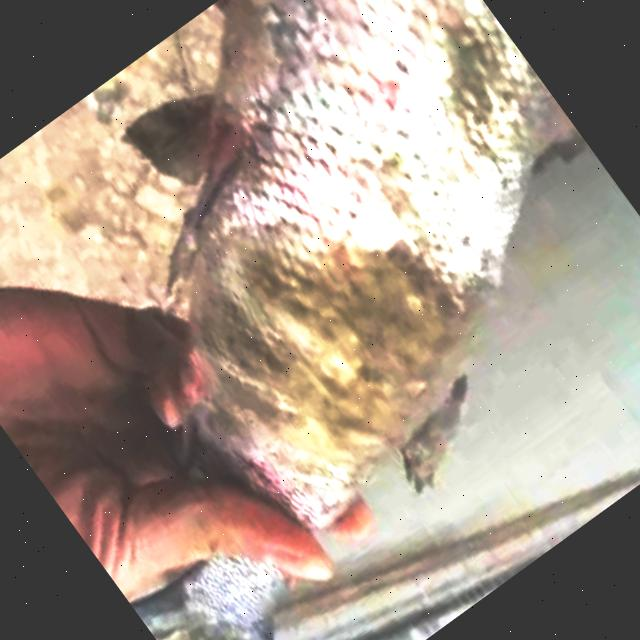Columnaris Disease: (125, 0, 555, 528)
